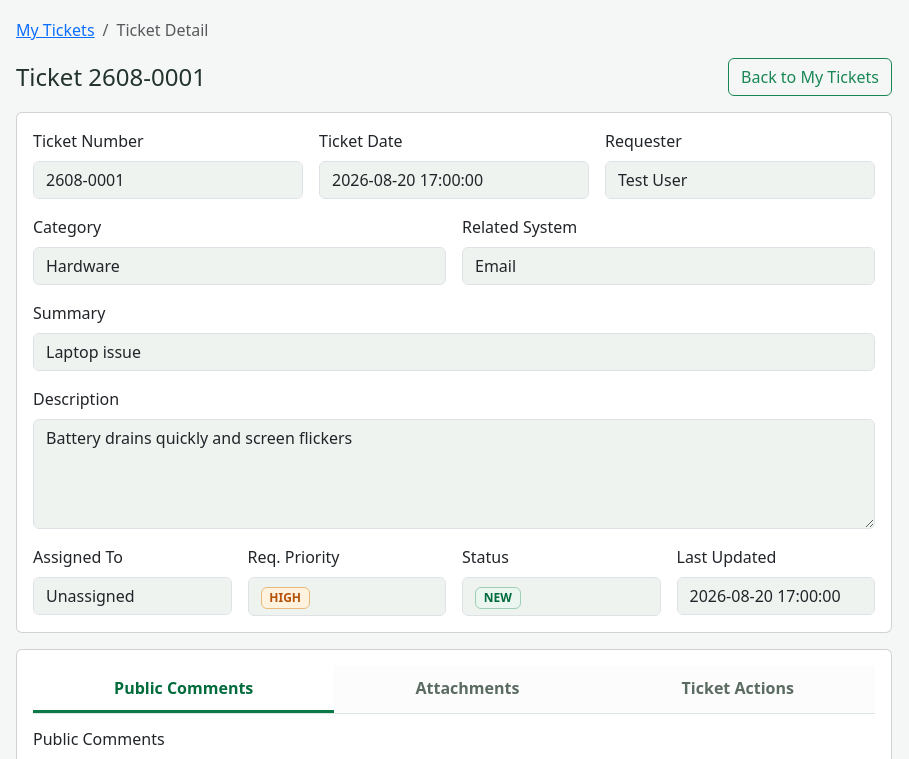
Scenario: RequesterTicketDetail › success shows Ticket Number, Ticket Date and attachments
Check: the text "Ticket Number" is shown, box [33,129,144,153]
Check: the field showing "2608-0001" is shown, box [33,161,303,199]
# Issue #49: attachments live under the Attachments tab.
Click the tab "Attachments" at (467, 690), box [334,666,600,713]
(page scrolled)
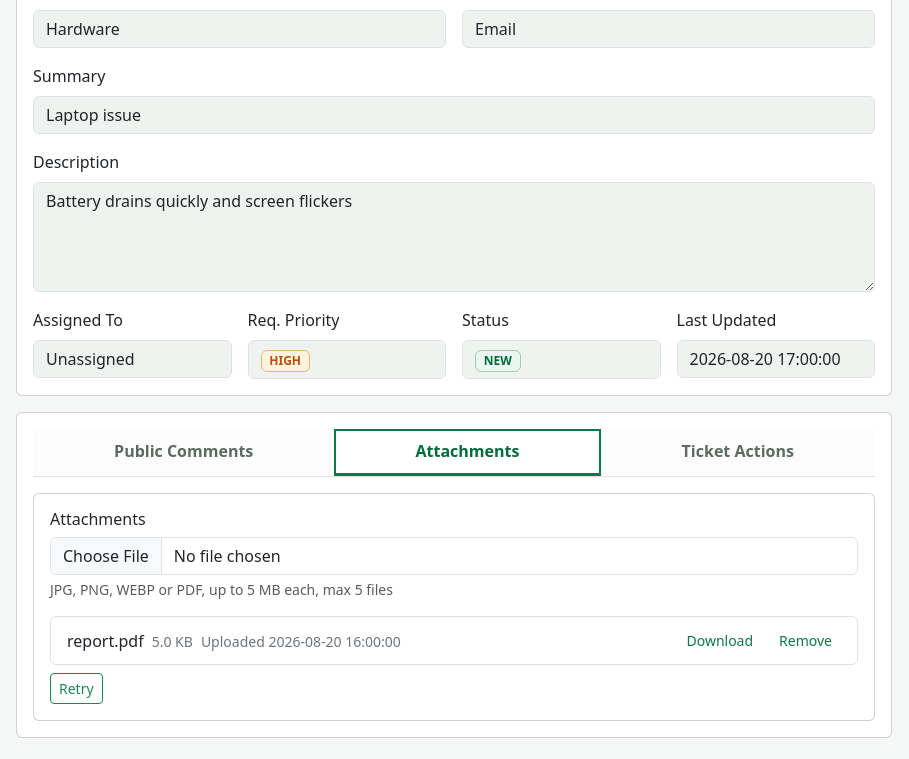
Check: the text "report.pdf" is shown, box [67,629,144,653]
Check: the button "Download" is shown, box [678,625,762,656]
Check: the button "Remove" is shown, box [770,625,841,656]
